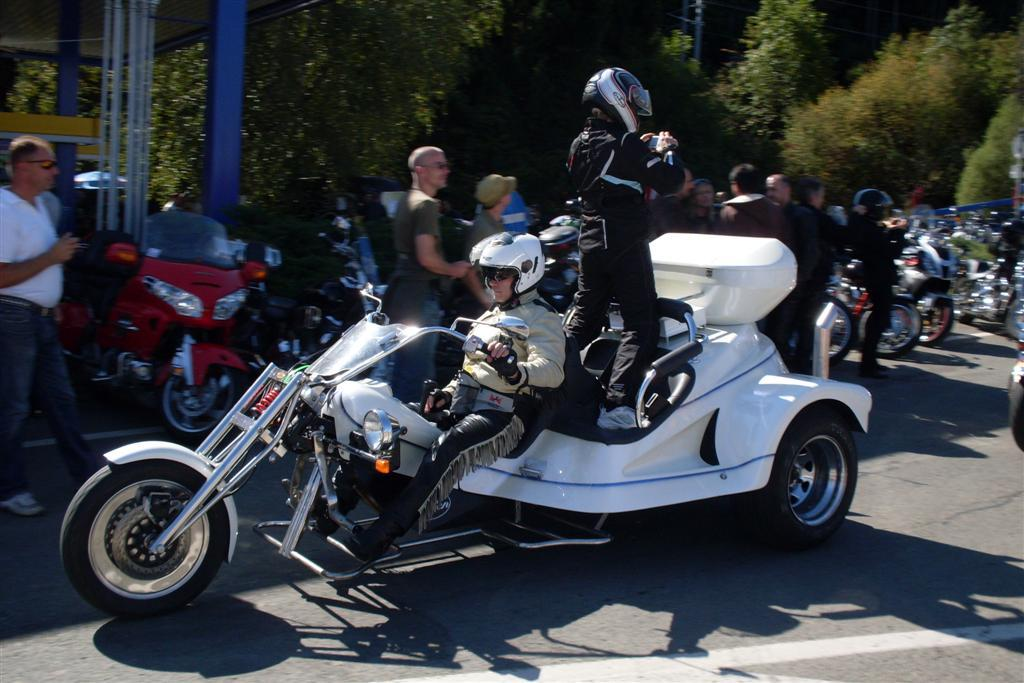Person: (0, 67, 1023, 563), (278, 228, 566, 567)
